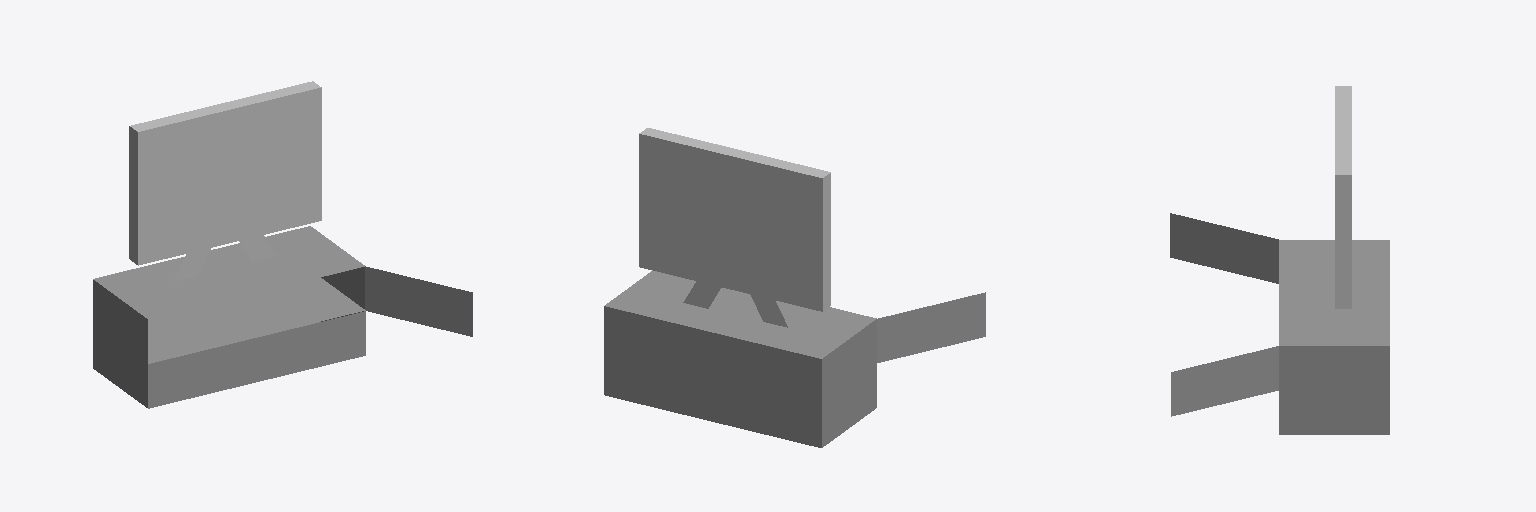
File: tabletv.obj
3 views of the same model, side by side, from view 1: azimuth 30°, elevation 25°; view 2: azimuth 150°, elevation 25°; view 3: azimuth 270°, elevation 25° (orthographic).
Parts seen in each view (by area): view 1: Cube, TV_Cube.006; view 2: Cube, TV_Cube.006; view 3: Cube, TV_Cube.006.
Part boxes in pixels (bbox=[...]): Cube: bbox=[93, 226, 472, 408]; TV_Cube.006: bbox=[129, 81, 321, 281]; Cube: bbox=[604, 270, 985, 447]; TV_Cube.006: bbox=[639, 128, 830, 327]; Cube: bbox=[1170, 213, 1389, 434]; TV_Cube.006: bbox=[1335, 86, 1351, 308].
Size of the model in its own units: 6.79 by 5.01 by 3.95.